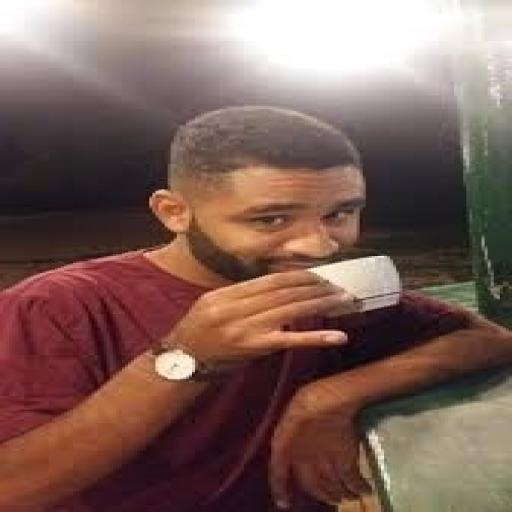drinking: (284, 253, 402, 331)
